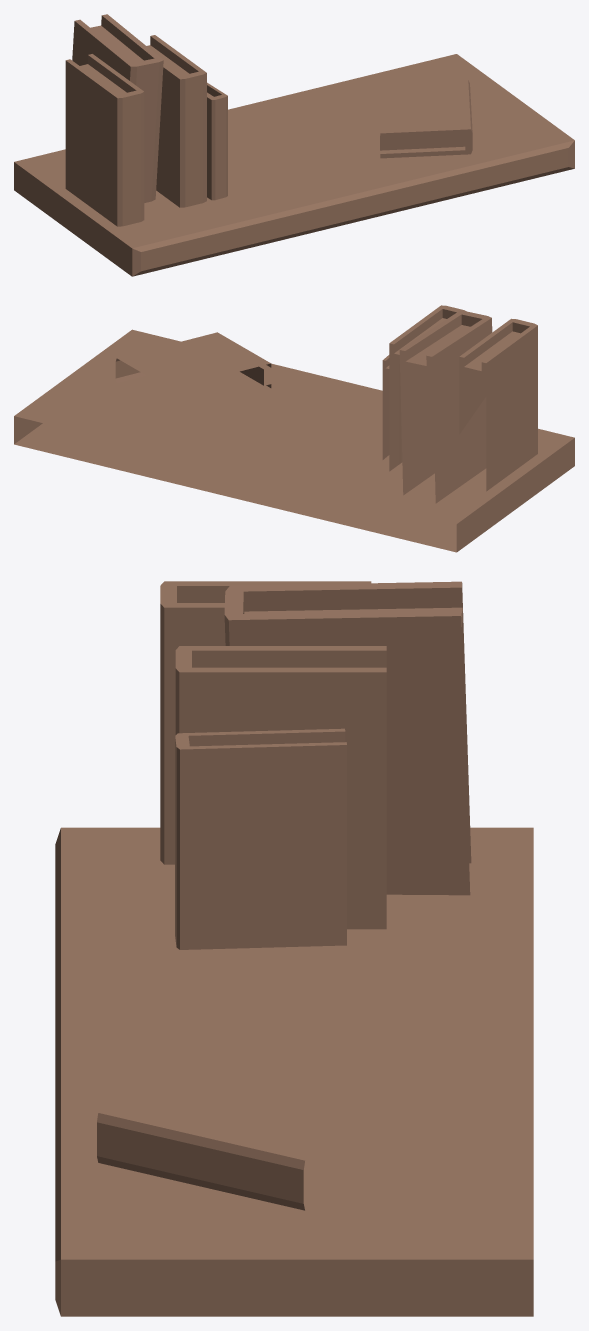
Rendered from BookCase01.001.fbx.
3 renders of one model, top to bottom at view 1: azimuth 30°, elevation 25°; view 2: azimuth 150°, elevation 25°; view 3: azimuth 270°, elevation 25°, orthographic. The views are drawn at different scales.
Visible parts, largest first — view 1: BookCase01.001; view 2: BookCase01.001; view 3: BookCase01.001.
Boxes of the visible parts, x1,y1,x2,y2 form: BookCase01.001: (14, 14, 574, 276); BookCase01.001: (14, 305, 574, 552); BookCase01.001: (55, 581, 533, 1316).
Bounding box in the file's own units: 154 × 57.24 × 72.04.
